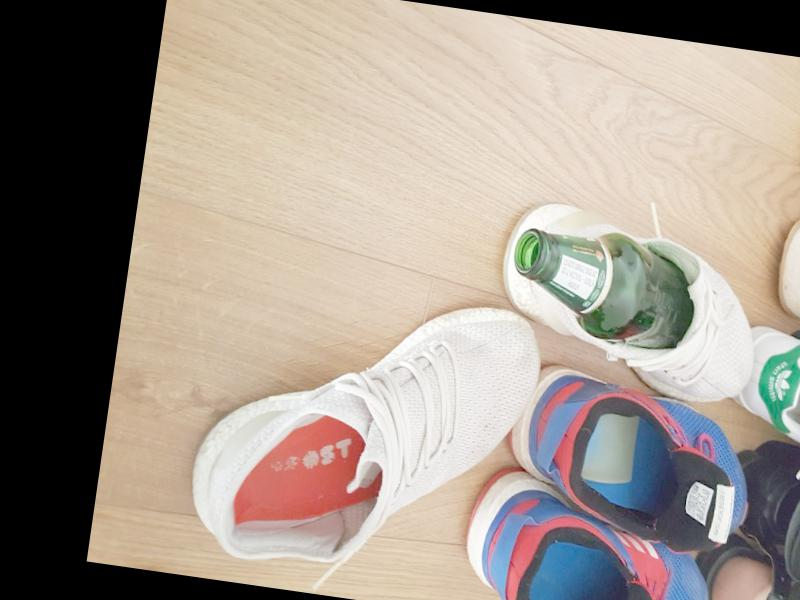Beer: (502, 219, 701, 356)
